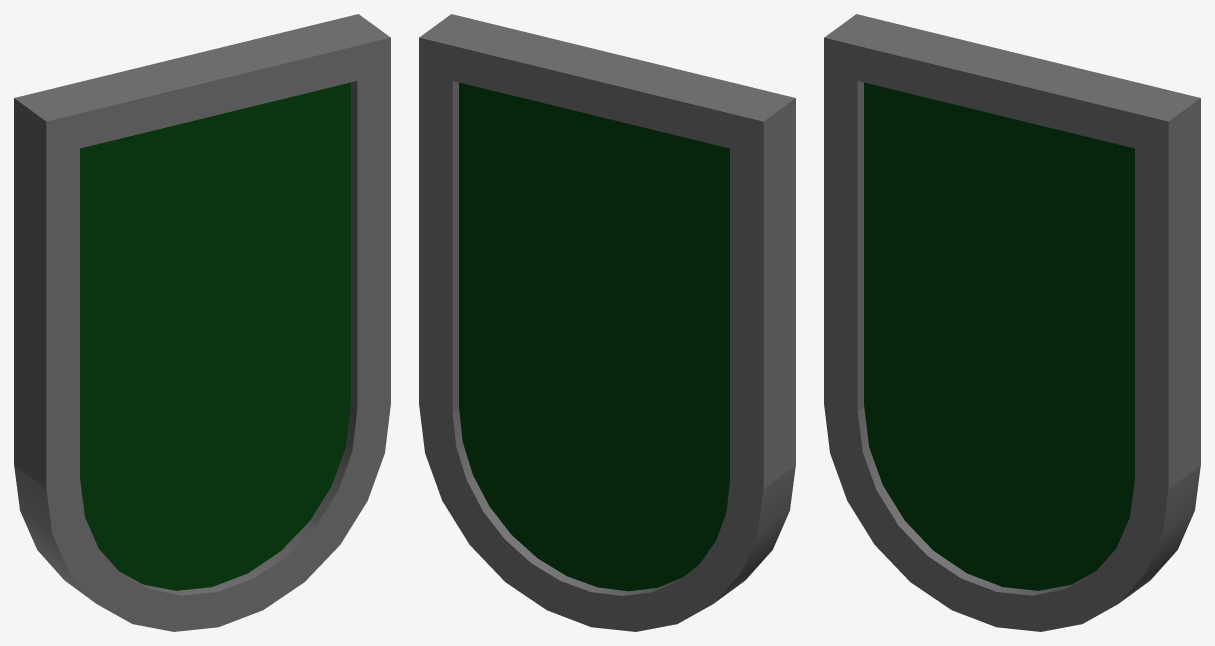
The model's file is Tank.fbx.
3 views of the same model, side by side, from view 1: azimuth 30°, elevation 25°; view 2: azimuth 150°, elevation 25°; view 3: azimuth 330°, elevation 25° (orthographic).
Visible parts, largest first — view 1: Model; view 2: Model; view 3: Model.
Part boxes in pixels (<box>): Model: <box>14,14,390,631</box>; Model: <box>419,14,795,631</box>; Model: <box>824,14,1200,631</box>.
Size of the model in its own units: 30.8 by 46.8 by 5.
